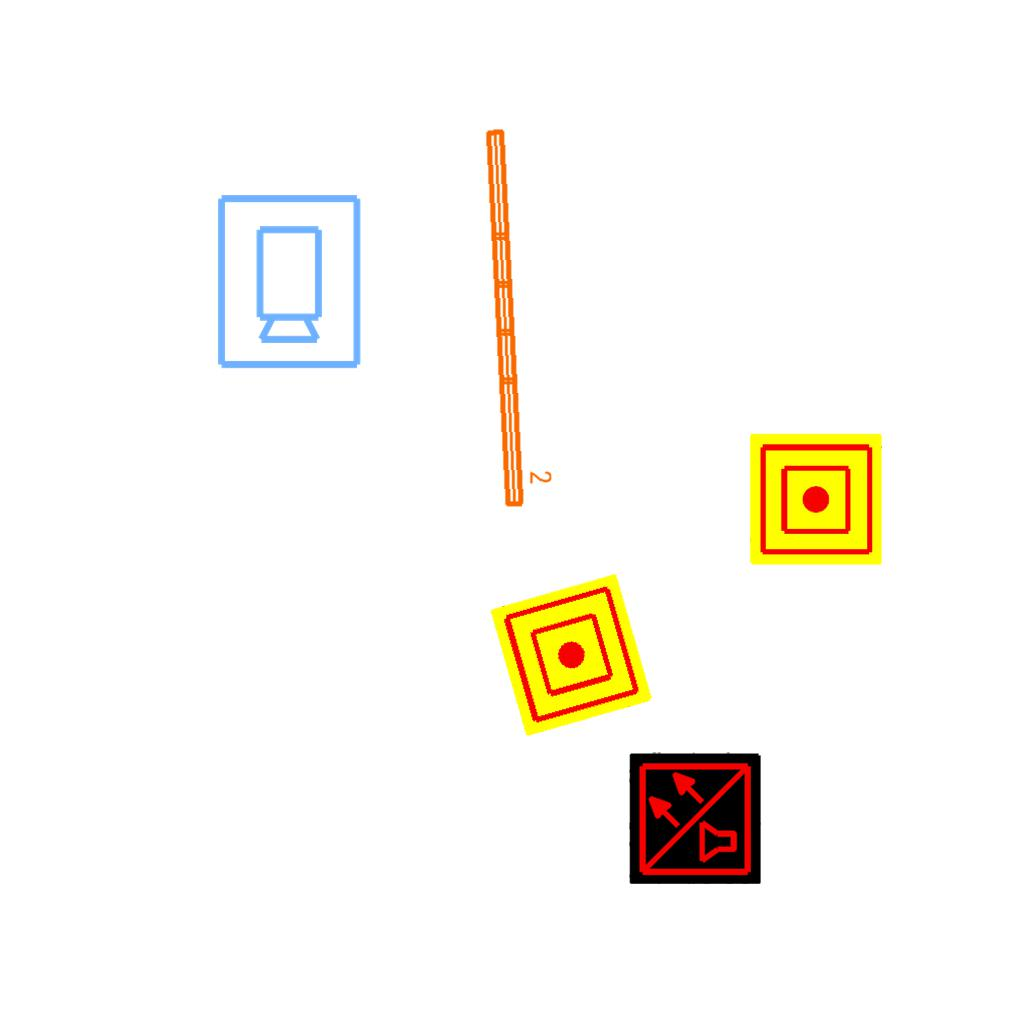Ambulanz_Pendelleuchte_LED: (479, 122, 556, 512)
KFO_Kamera_mit_Festobjektiv: (211, 190, 365, 372)
NAM-Nichtautomatischer_Melder: (489, 573, 653, 737), (750, 433, 882, 565)
OKW_Multisensormelder_(Kombination_optischer_Rauch-Kahlenmonoxid_Waerme-Melder): (629, 752, 761, 884)
